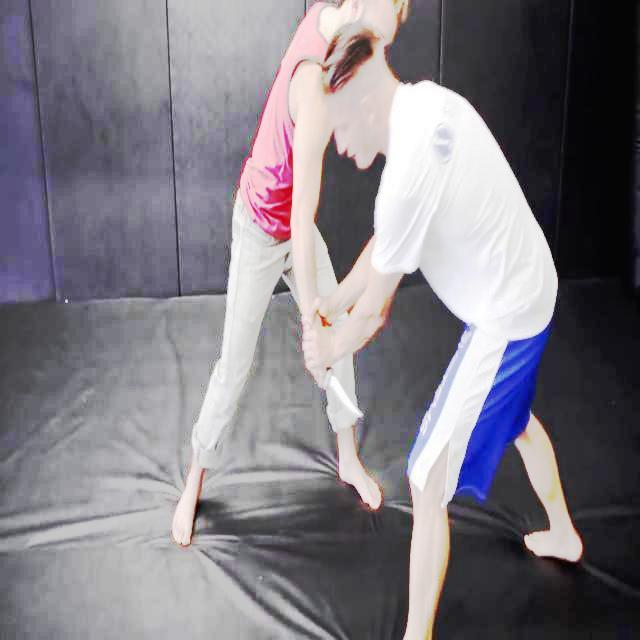Knife: (324, 369, 368, 420)
